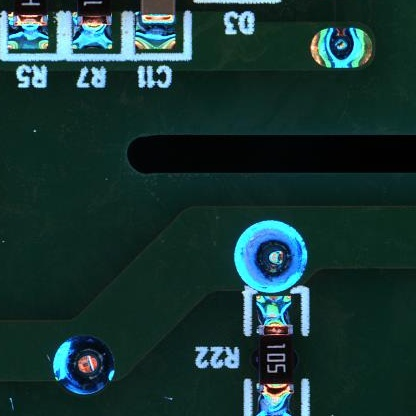spot: (234, 219, 306, 290), (51, 334, 116, 397), (310, 26, 373, 68)
